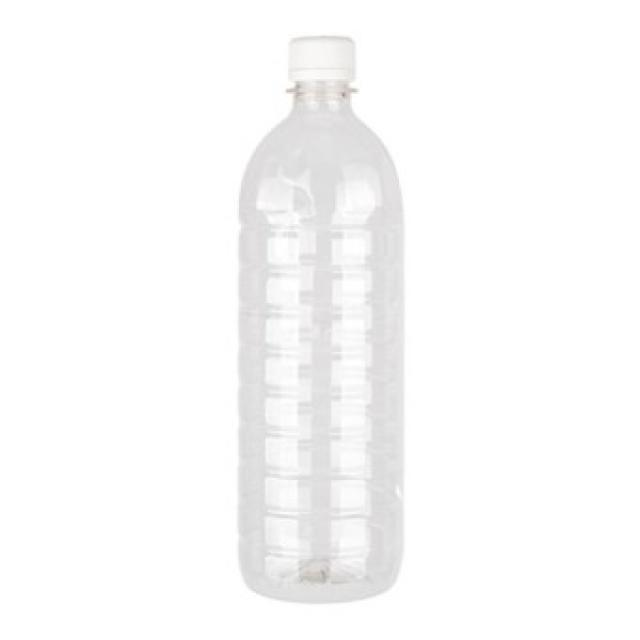plastic bottle: (235, 38, 412, 602)
